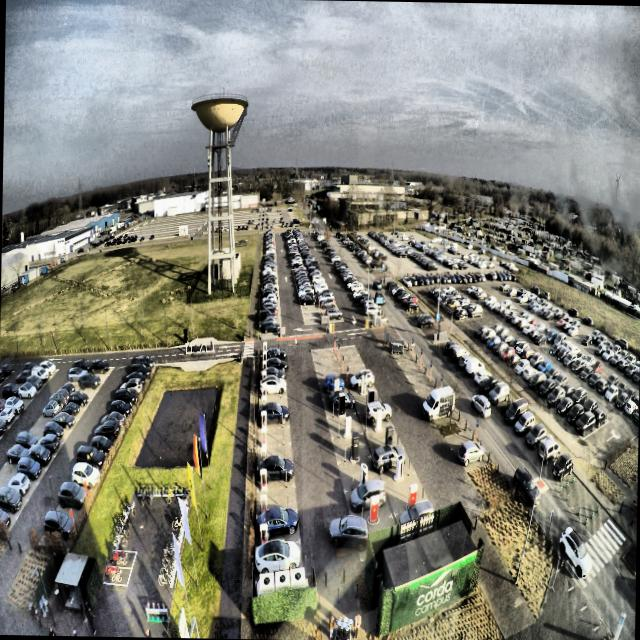cabinet: (259, 567, 305, 588)
car: (254, 538, 302, 576), (254, 503, 298, 543), (328, 513, 370, 550), (258, 456, 295, 482), (257, 400, 290, 428), (259, 437, 295, 461), (259, 375, 286, 396), (262, 357, 288, 372), (264, 346, 287, 361), (258, 366, 286, 378)
parking: (255, 540, 302, 583), (256, 511, 299, 548), (256, 485, 297, 516), (257, 463, 295, 490), (257, 443, 292, 469), (258, 426, 290, 447), (258, 410, 289, 431), (259, 381, 286, 400), (259, 397, 287, 413), (259, 369, 285, 386), (260, 351, 284, 364), (260, 360, 284, 371)
supercharger: (259, 524, 268, 548), (260, 495, 267, 517), (260, 447, 267, 463), (260, 429, 267, 445), (260, 468, 266, 484), (261, 412, 266, 429), (261, 397, 266, 412), (262, 383, 267, 397), (262, 342, 267, 351), (262, 352, 267, 361), (262, 371, 266, 382), (262, 360, 266, 369)
